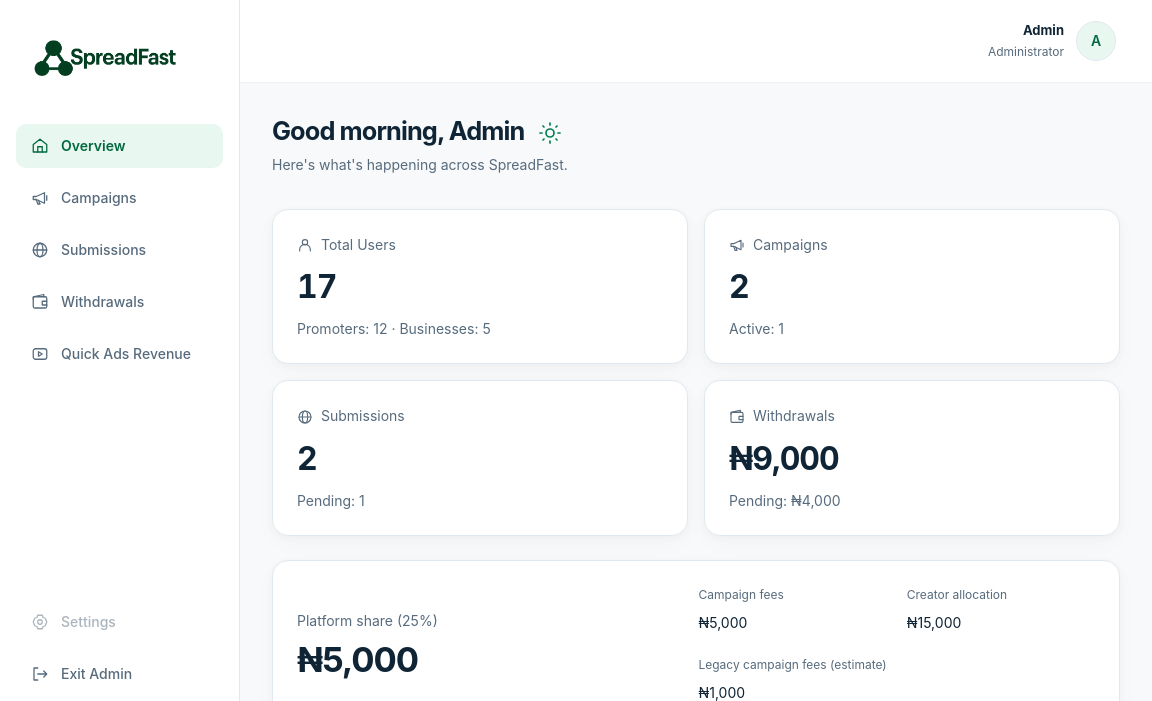
it: failed mutations retain backend messages
Click the button "Campaigns": x=120, y=198 [16, 176, 223, 220]
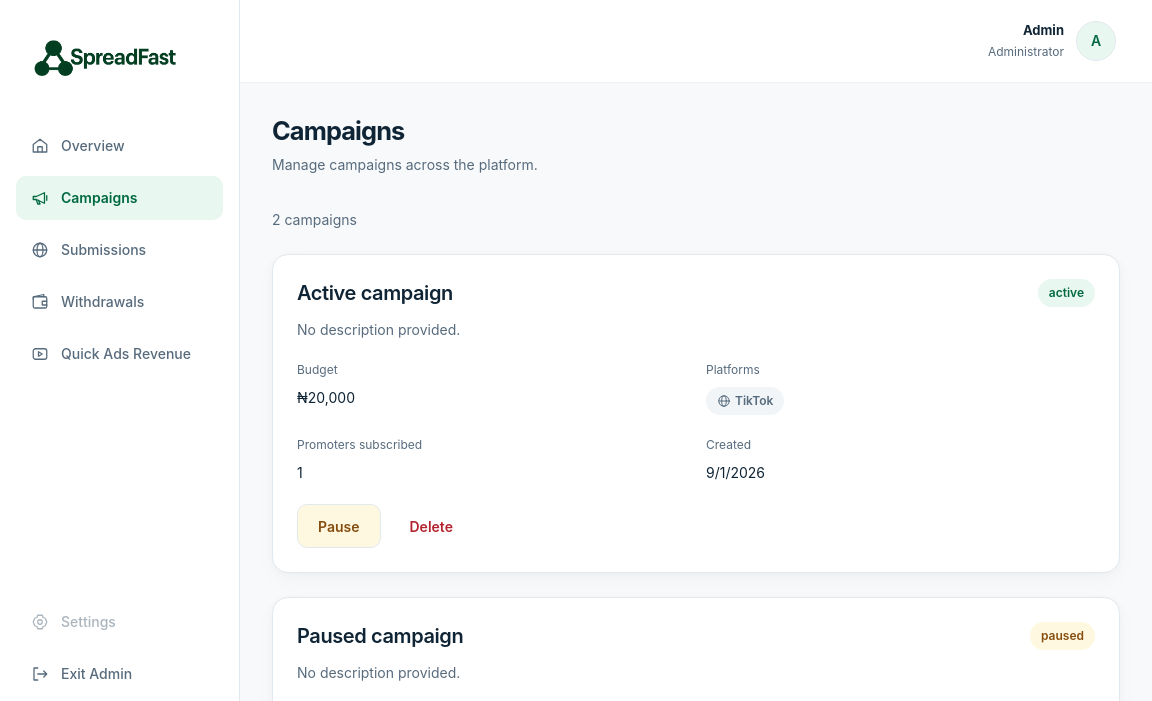
Click the button "Pause": x=339, y=526 [297, 504, 380, 548]
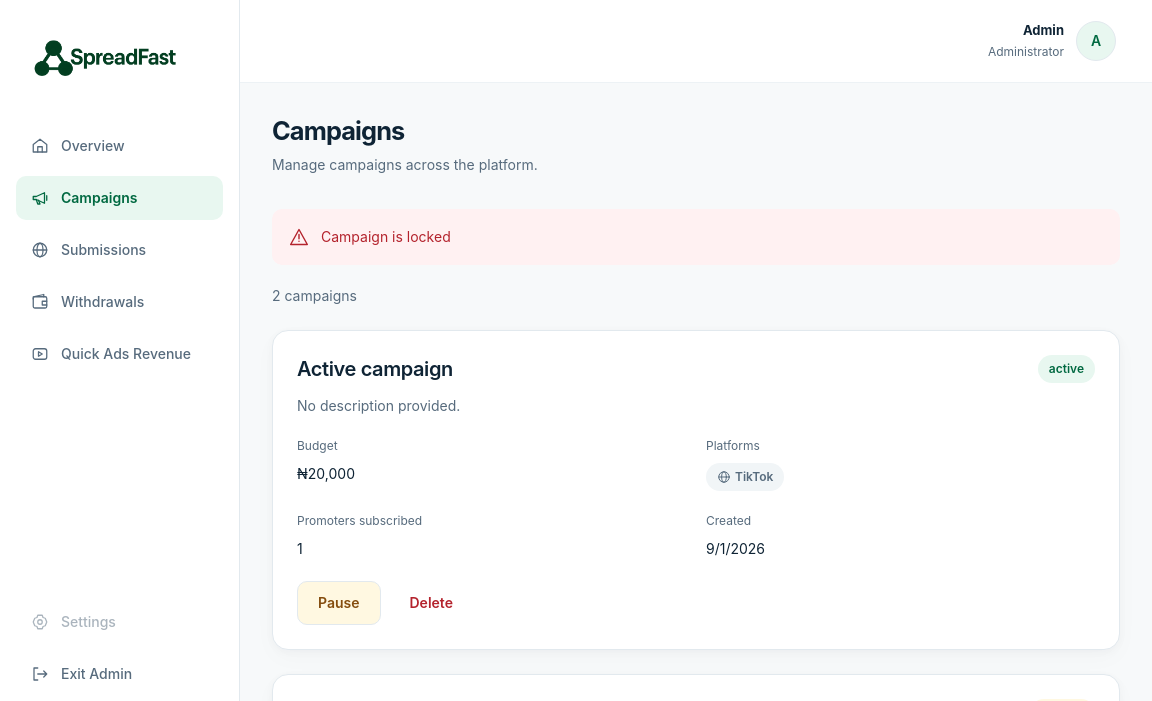
Result: the message "Campaign is locked" is shown at [272, 209, 1120, 265]
